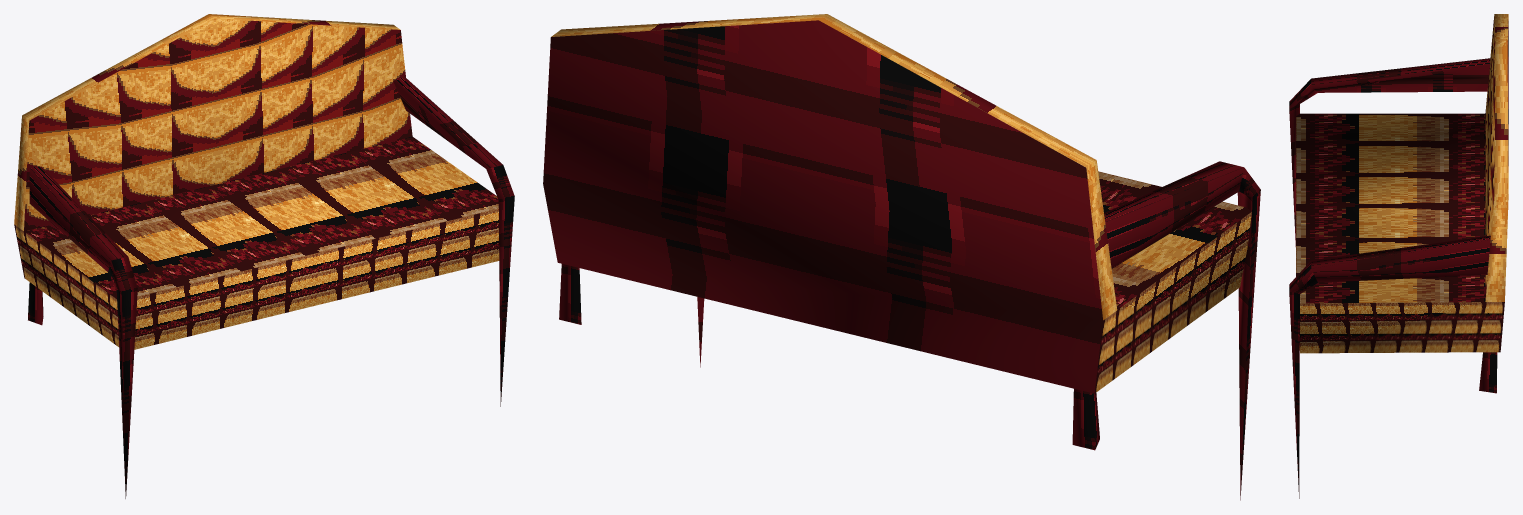
File: 3044IMRL02_05.gltf
The picture shows the model from 3 angles, left to right: view 1: azimuth 30°, elevation 25°; view 2: azimuth 150°, elevation 25°; view 3: azimuth 270°, elevation 25°; orthographic projection. The views are drawn at different scales.
Parts seen in each view (by area): view 1: 3044IMRL02_05; view 2: 3044IMRL02_05; view 3: 3044IMRL02_05.
Boxes of the visible parts, left/top/right/bottom form: 3044IMRL02_05: left=14, top=14, right=514, bottom=498; 3044IMRL02_05: left=543, top=14, right=1260, bottom=500; 3044IMRL02_05: left=1289, top=14, right=1508, bottom=498.
Bounding box in the file's own units: 1.9 × 1.68 × 0.9229.
Materials: 3 (3 with a texture image).
